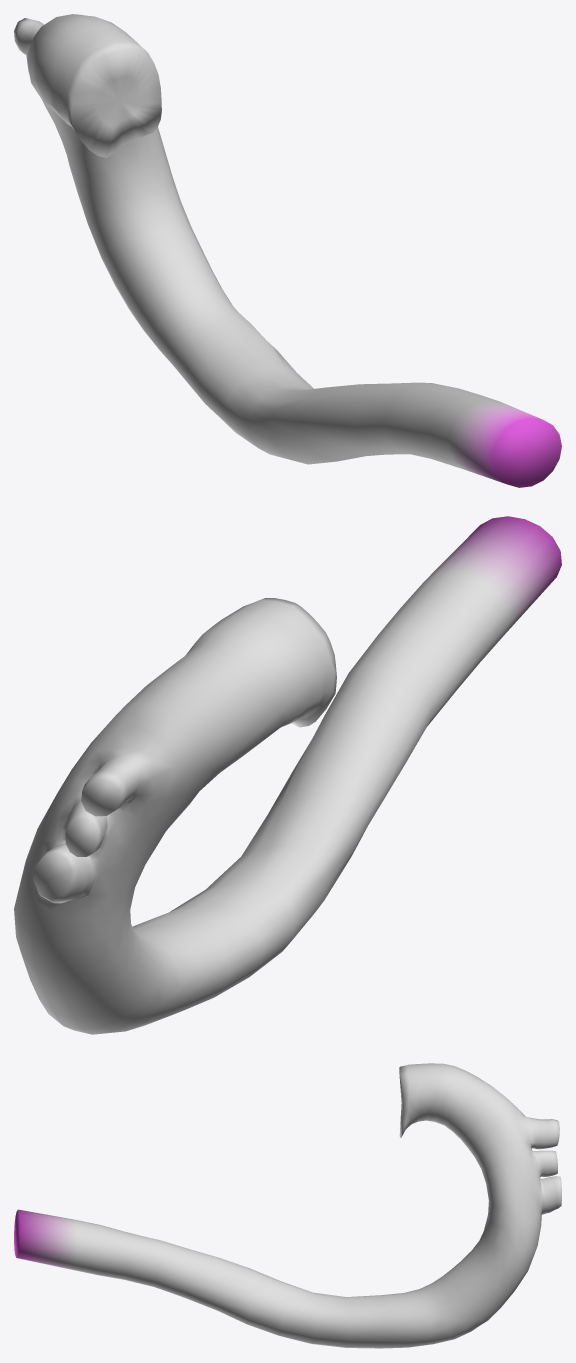
File: Aorta_Heart.fbx
3 renders of one model, top to bottom at view 1: azimuth 30°, elevation 25°; view 2: azimuth 150°, elevation 25°; view 3: azimuth 270°, elevation 25°, orthographic. The views are drawn at different scales.
Visible parts, largest first — view 1: Aorta_Heart; view 2: Aorta_Heart; view 3: Aorta_Heart.
Part boxes in pixels (box(x1,y1,x2,y2)): Aorta_Heart: box(14, 14, 561, 487); Aorta_Heart: box(14, 516, 561, 1034); Aorta_Heart: box(14, 1063, 561, 1348).
Bounding box in the file's own units: 61.16 × 112 × 227.
